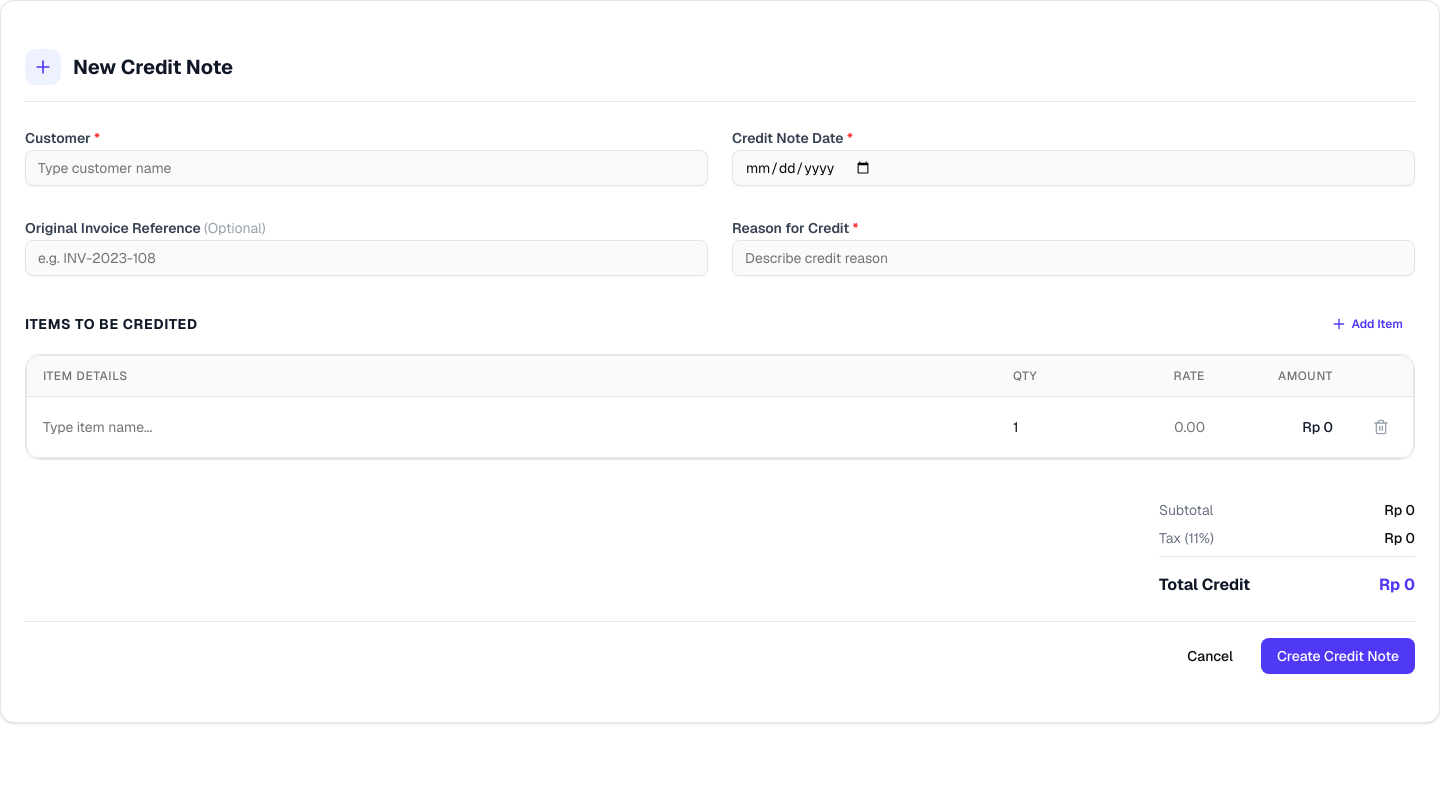
it: invoicing-ar integration errors › shows 422 error message on create credit note page
Click the button "Create Credit Note" at {"x": 1338, "y": 656}, box [1261,638,1415,674]
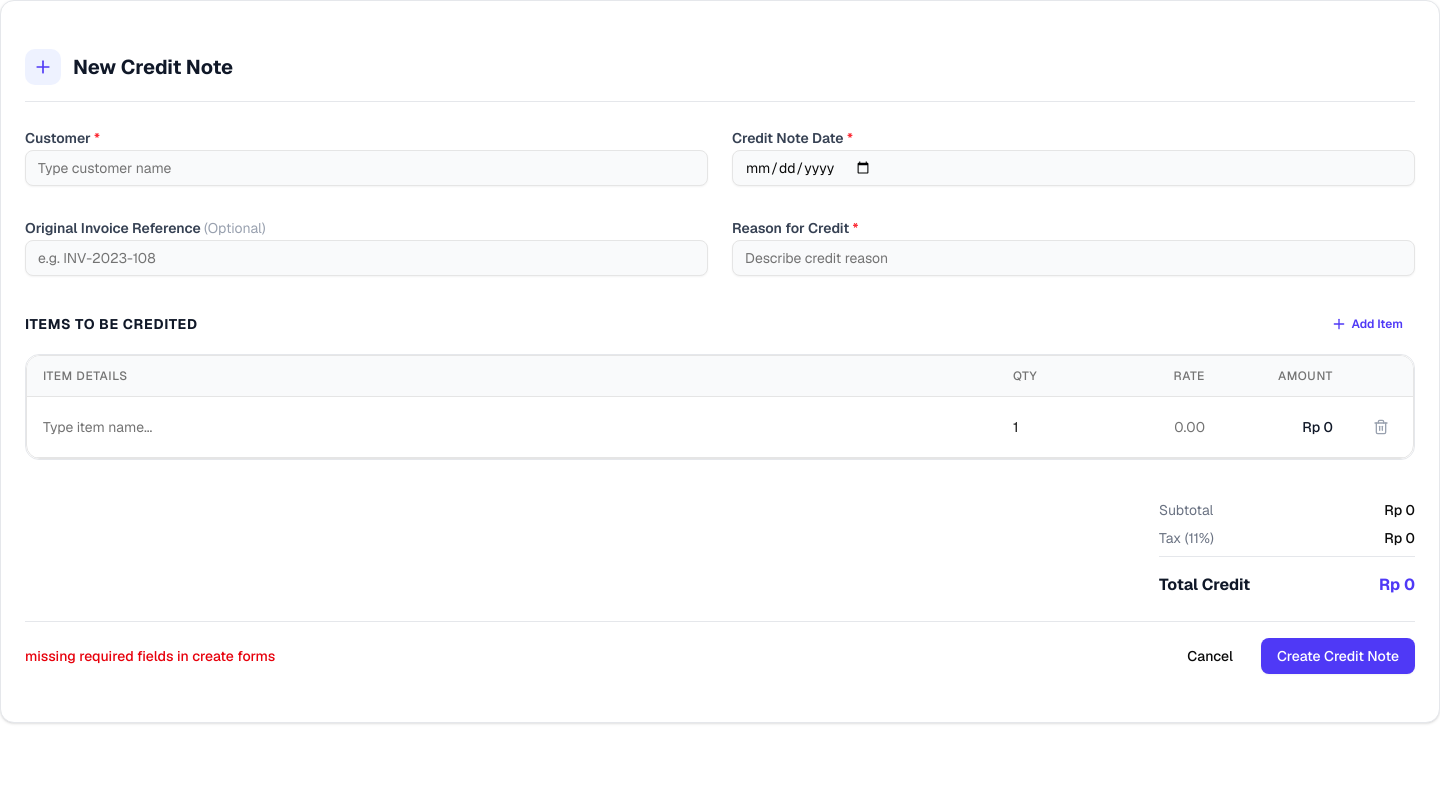
Now the text "missing required fields in create forms" is shown, box [25,646,275,666]
